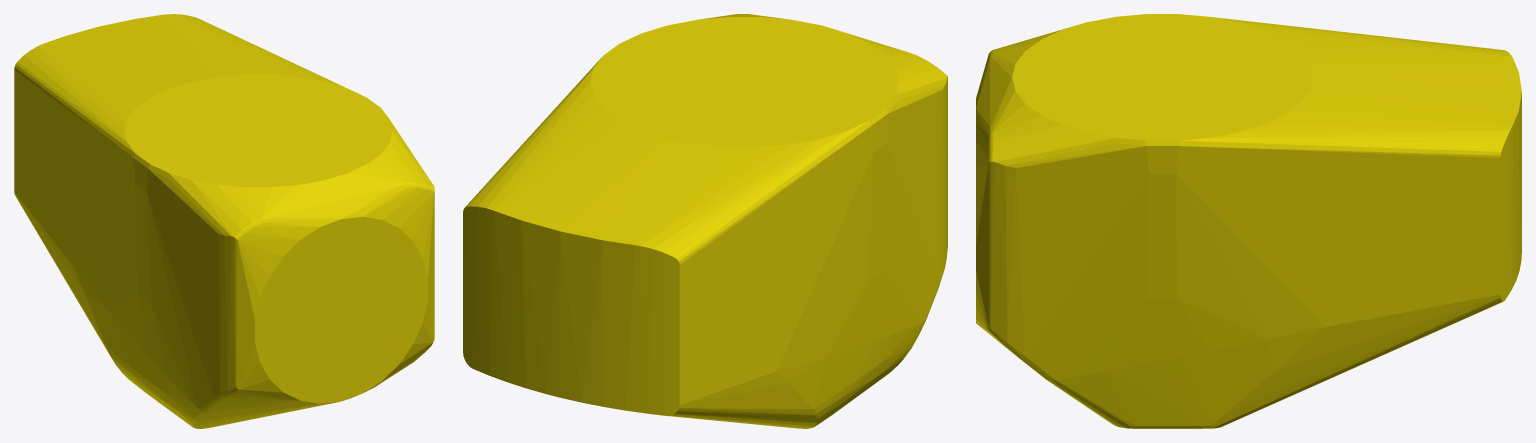
The model's file is elbow_link_collision.dae.
3 views of the same model, side by side, from view 1: azimuth 30°, elevation 25°; view 2: azimuth 150°, elevation 25°; view 3: azimuth 270°, elevation 25° (orthographic). The views are drawn at different scales.
Parts seen in each view (by area): view 1: node; view 2: node; view 3: node.
Part boxes in pixels (bbox=[...]): node: bbox=[14, 14, 434, 428]; node: bbox=[463, 14, 947, 428]; node: bbox=[976, 14, 1521, 428].
Bounding box in the file's own units: 0.3486 × 0.373 × 0.623.
1 material, 1 textured.
